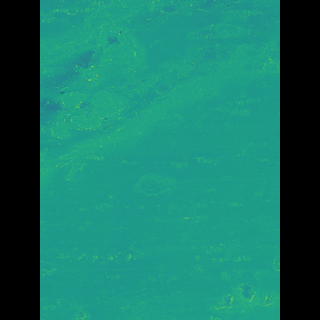Loch: (71, 0, 250, 187)
